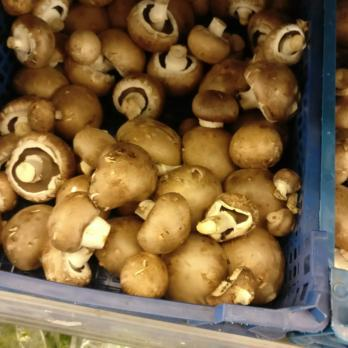Mushroom: (1, 0, 303, 289)
